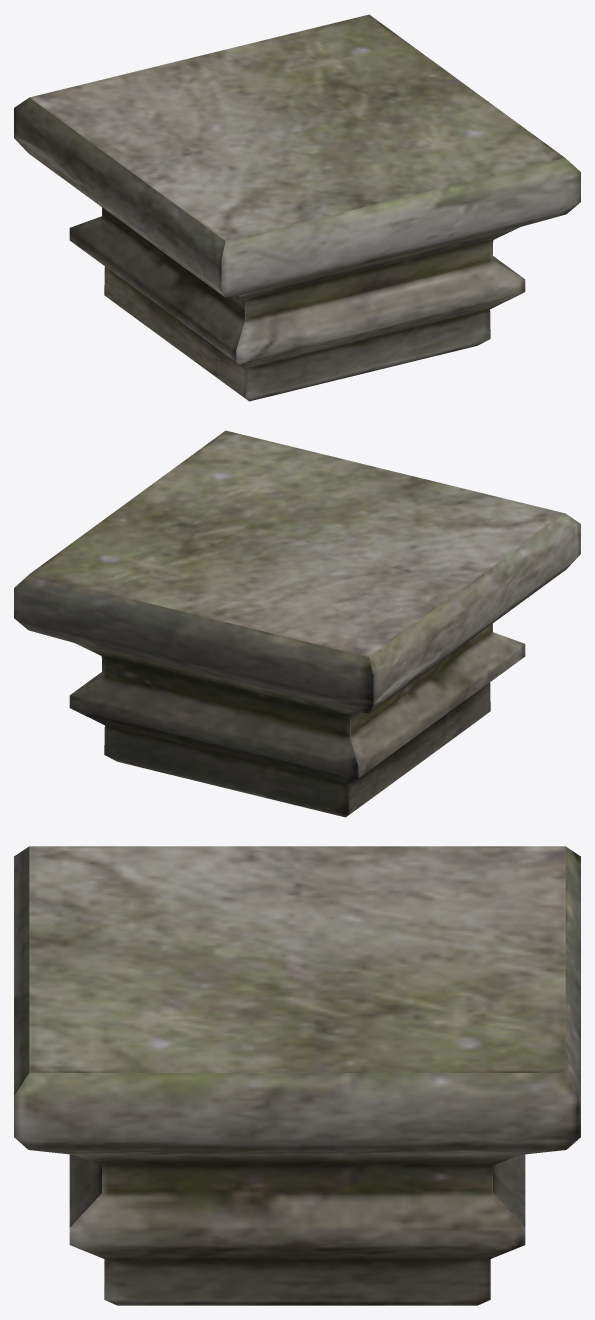
The model's file is a_stone004.FBX.
3 renders of one model, top to bottom at view 1: azimuth 30°, elevation 25°; view 2: azimuth 150°, elevation 25°; view 3: azimuth 270°, elevation 25°, orthographic. The views are drawn at different scales.
Visible parts, largest first — view 1: a_stone004; view 2: a_stone004; view 3: a_stone004.
Part boxes in pixels (<box>): a_stone004: <box>14,14,580,401</box>; a_stone004: <box>14,430,580,817</box>; a_stone004: <box>14,846,580,1305</box>.
Bounding box in the file's own units: 212 × 111 × 212.
